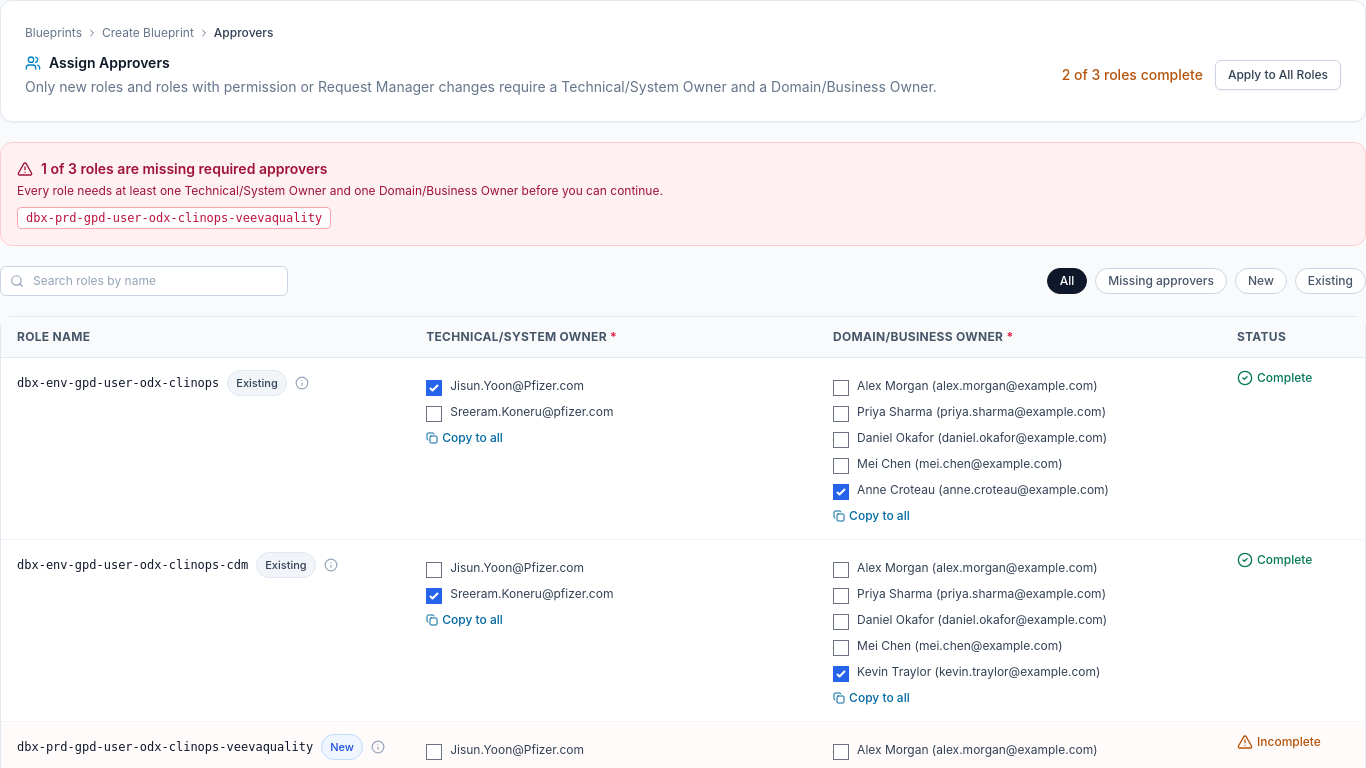
Test: BlueprintApproversForm › applies approvers to all roles, confirming before replacing and showing a toast
The width and height of the screenshot is (1366, 768).
Expected: the text "2 of 3 roles complete" is shown, left=1062, top=65, right=1203, bottom=85
Click the button "Apply to All Roles".
click(1278, 75)  # box left=1215, top=60, right=1341, bottom=90
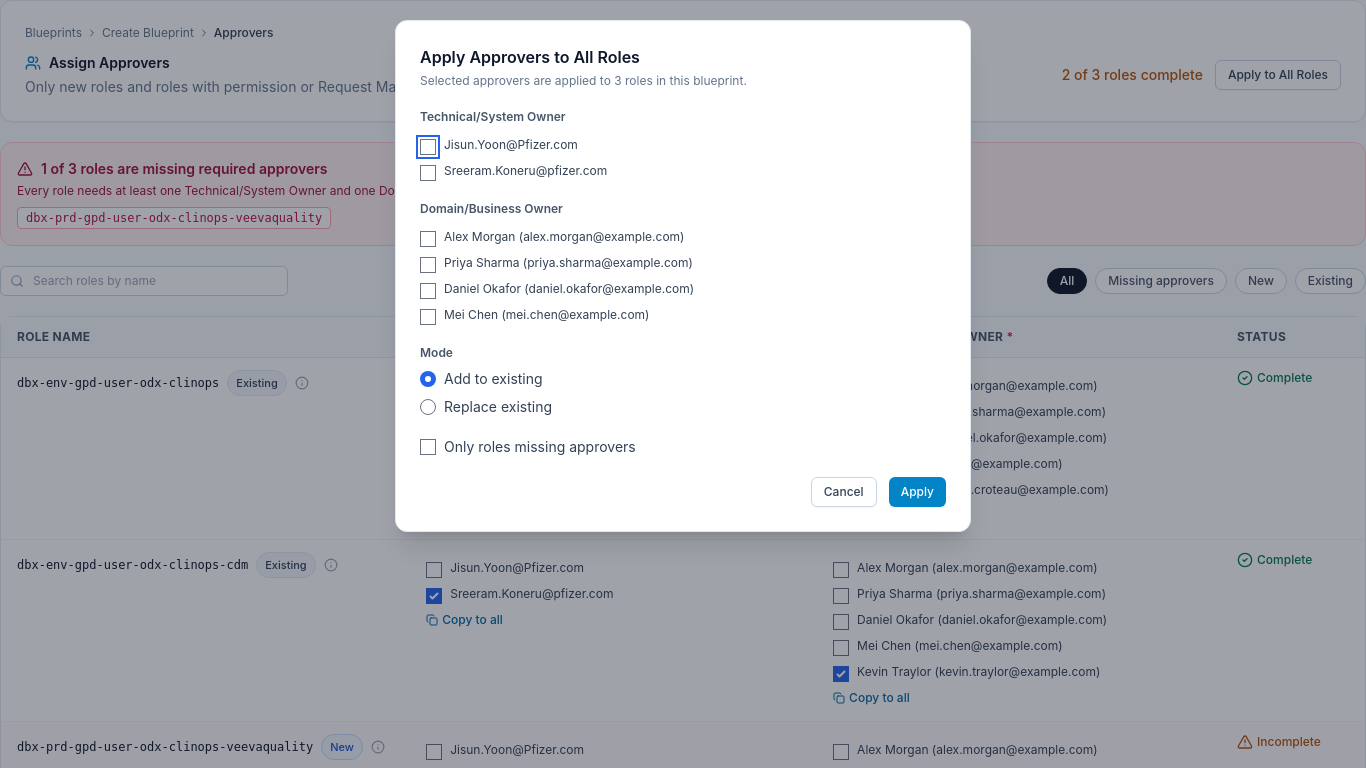
Click the checkbox labelled "Jisun.Yoon@Pfizer.com".
click(428, 147)  # box left=420, top=139, right=436, bottom=155
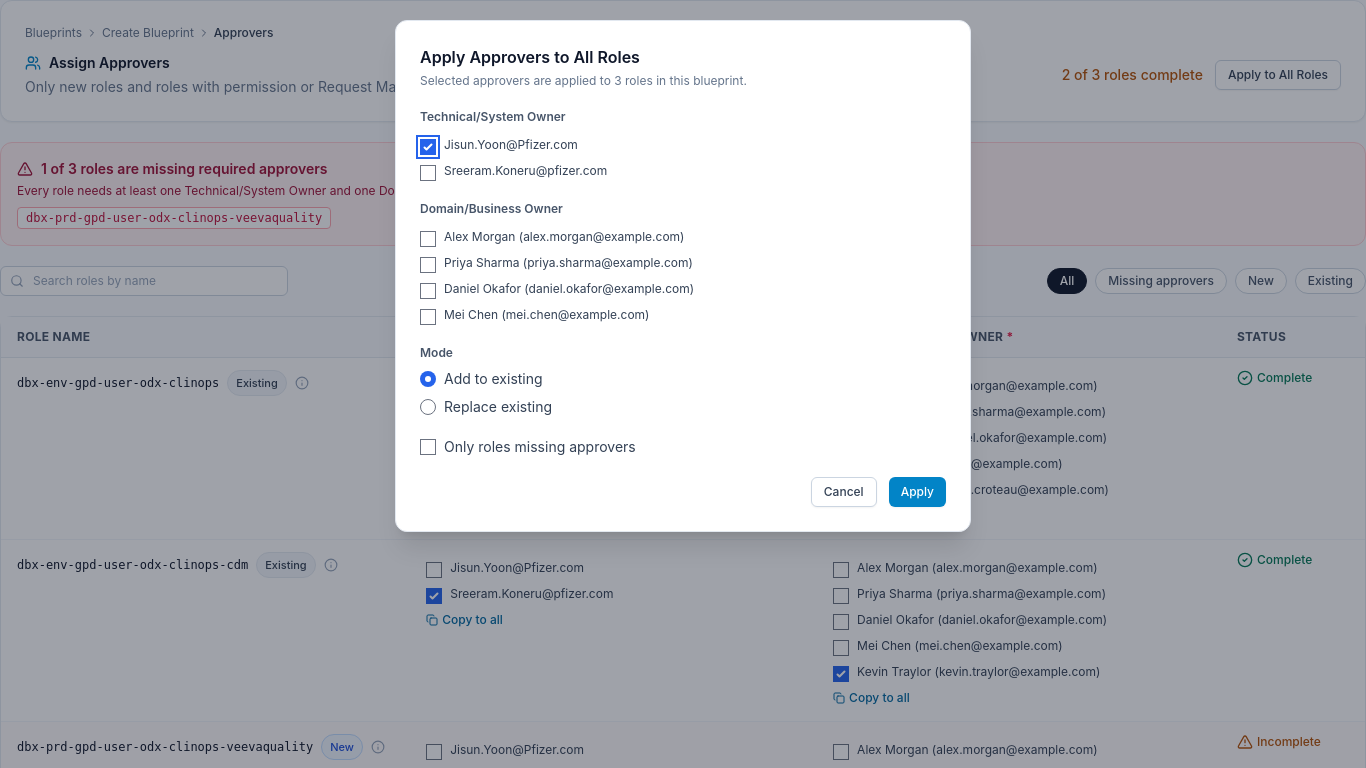
Click the radio button labelled "Replace existing".
click(428, 407)  # box left=420, top=399, right=436, bottom=415
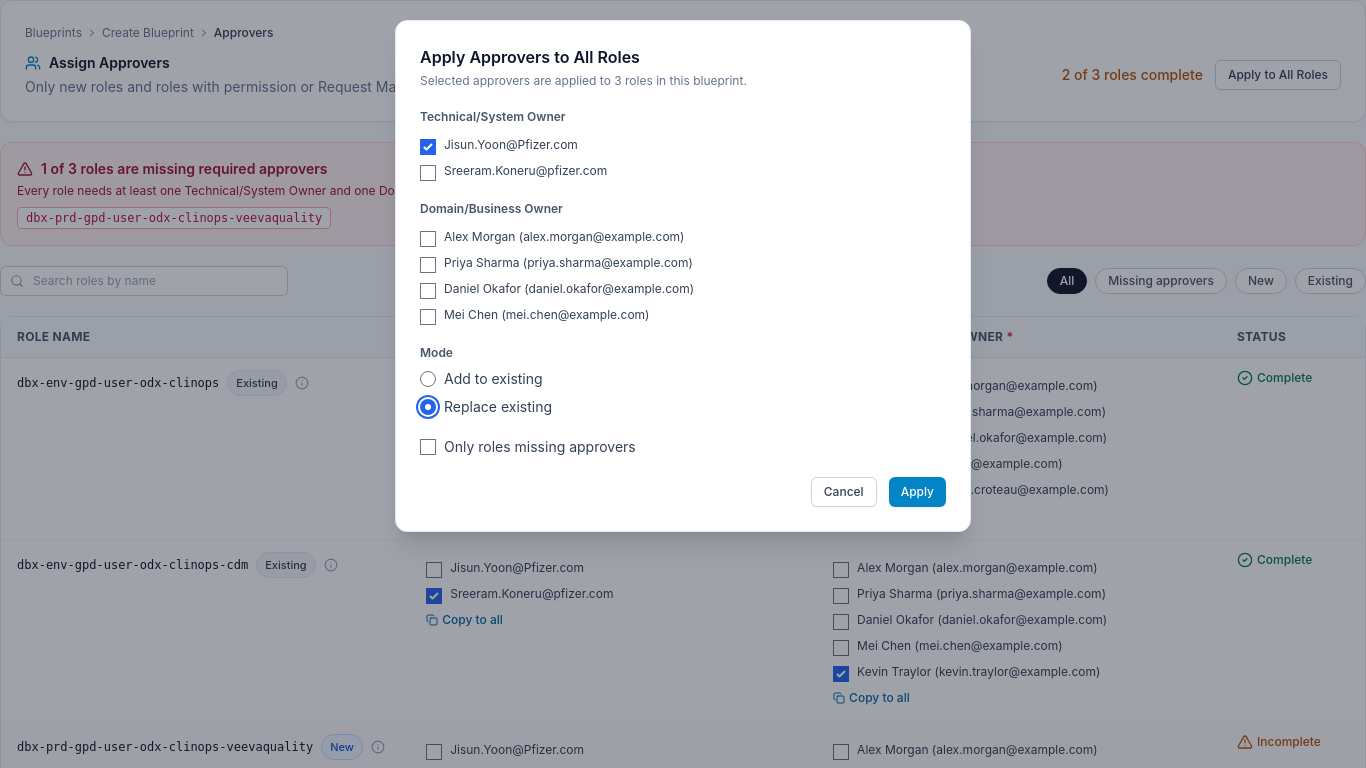
Click the button "Apply".
click(917, 492)  # box left=889, top=477, right=946, bottom=507
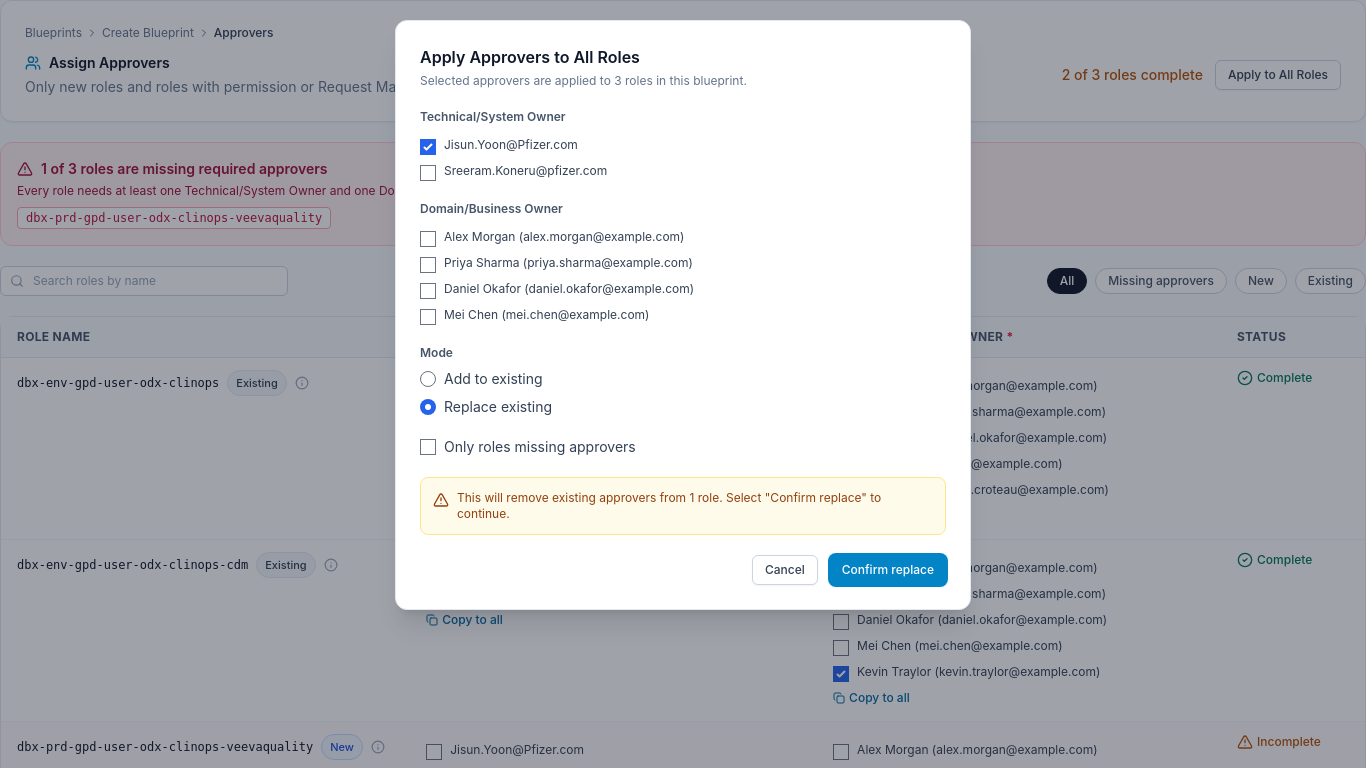
Expected: the message shows "remove existing approvers from 1 role", left=420, top=477, right=946, bottom=535
Click the button "Confirm replace".
click(888, 570)  # box left=830, top=555, right=946, bottom=585
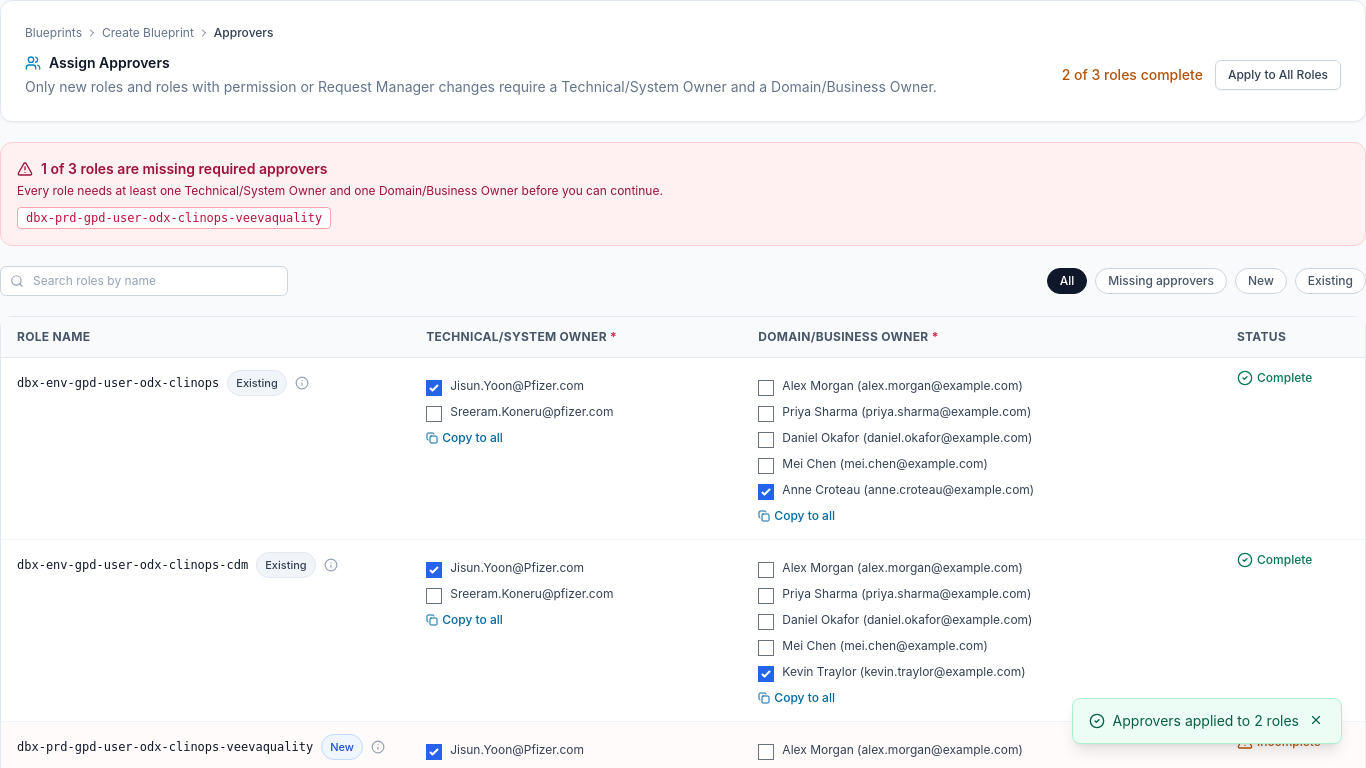
Expected: the text "Approvers applied to 2 roles" is shown, left=1113, top=711, right=1299, bottom=731
